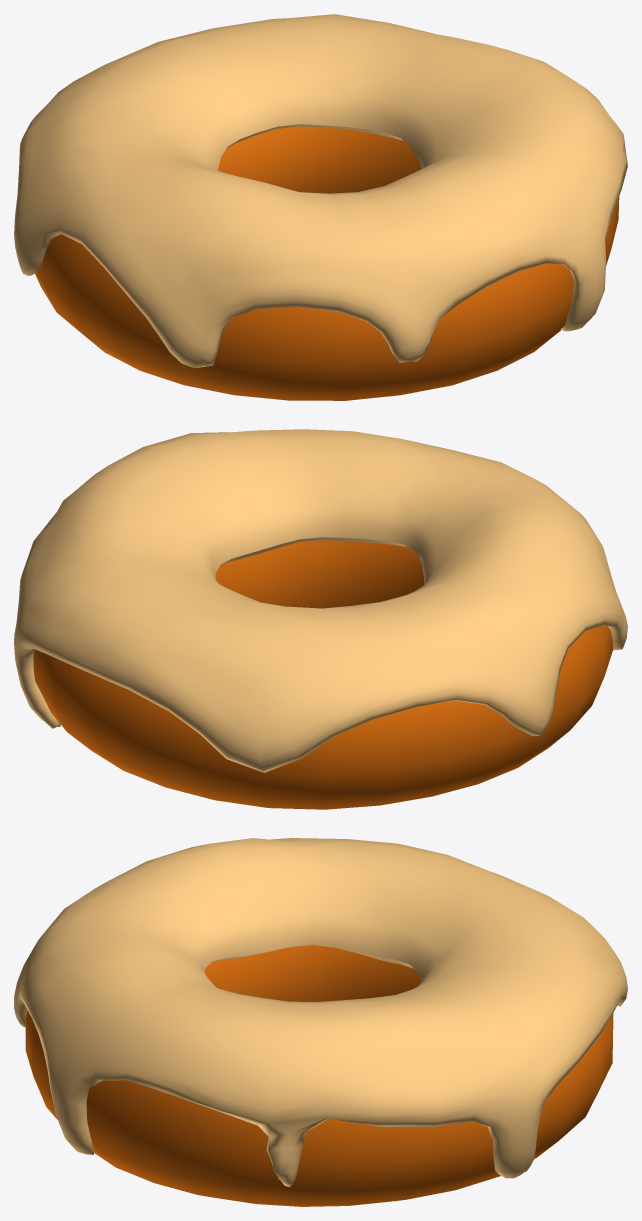
The model's file is Sm_DONA.fbx.
The picture shows the model from 3 angles, top to bottom: view 1: azimuth 30°, elevation 25°; view 2: azimuth 150°, elevation 25°; view 3: azimuth 270°, elevation 25°; orthographic projection. The views are drawn at different scales.
Visible parts, largest first — view 1: Retopo_icing.003, Retopo_donut.001; view 2: Retopo_icing.003, Retopo_donut.001; view 3: Retopo_icing.003, Retopo_donut.001.
Boxes of the visible parts, x1=… form: Retopo_icing.003: x1=14, y1=14, x2=627, y2=368; Retopo_donut.001: x1=35, y1=126, x2=619, y2=400; Retopo_icing.003: x1=14, y1=429, x2=627, y2=772; Retopo_donut.001: x1=33, y1=540, x2=613, y2=809; Retopo_icing.003: x1=14, y1=838, x2=627, y2=1187; Retopo_donut.001: x1=25, y1=945, x2=613, y2=1206.
Size of the model in its own units: 2277 by 828 by 2333.
